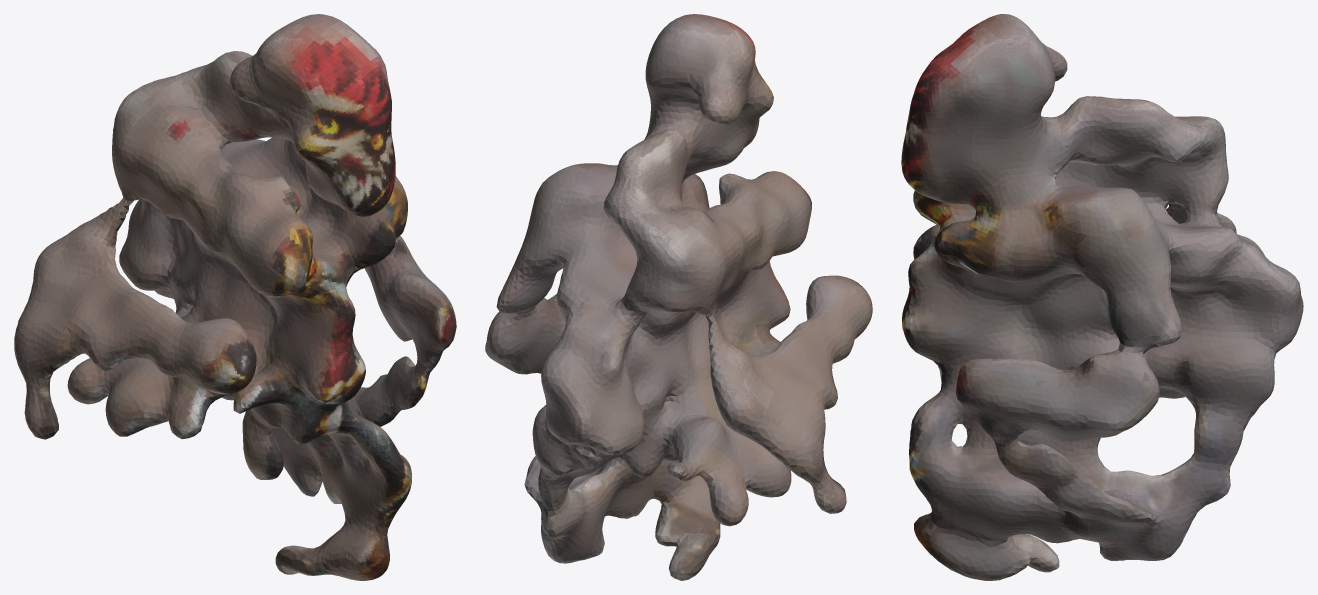
The model's file is beamit-1736491657175-fullbody.glb.
The picture shows the model from 3 angles, left to right: view 1: azimuth 30°, elevation 25°; view 2: azimuth 150°, elevation 25°; view 3: azimuth 270°, elevation 25°; orthographic projection. The views are drawn at different scales.
Bounding box in the file's own units: 0.8884 × 1.27 × 0.843.
1 material, 1 textured.
